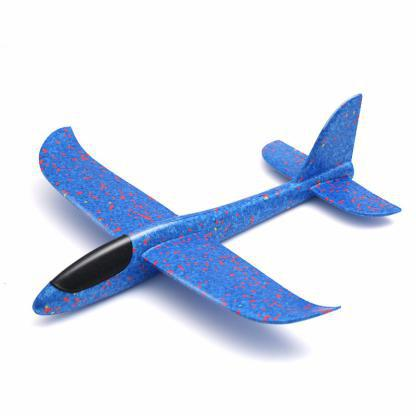CIV_Plane: (26, 93, 404, 326)
